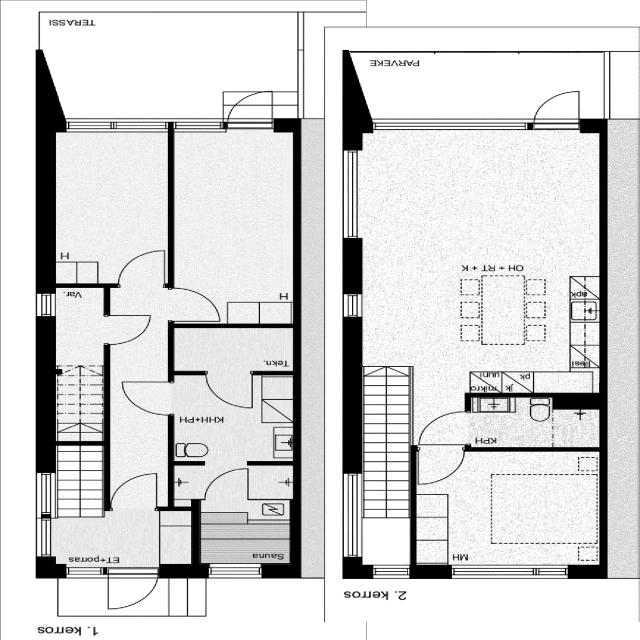door: (169, 279, 222, 328), (99, 568, 156, 609), (200, 374, 264, 409), (224, 89, 272, 135), (420, 440, 466, 488), (119, 377, 175, 416), (418, 409, 474, 446), (536, 86, 580, 127), (119, 248, 164, 288), (202, 469, 254, 502), (105, 311, 146, 345), (117, 472, 157, 506)
window: (64, 118, 218, 137), (342, 148, 369, 248), (32, 473, 62, 558), (376, 114, 518, 131), (339, 470, 364, 559), (452, 564, 577, 581), (26, 284, 61, 322), (200, 561, 272, 578), (339, 291, 361, 325), (369, 564, 416, 576)
zone: (358, 123, 598, 395), (168, 132, 303, 325), (416, 444, 605, 568), (51, 132, 167, 290), (176, 373, 298, 465), (54, 286, 100, 446), (194, 500, 294, 567), (469, 400, 602, 448), (173, 326, 303, 374)
